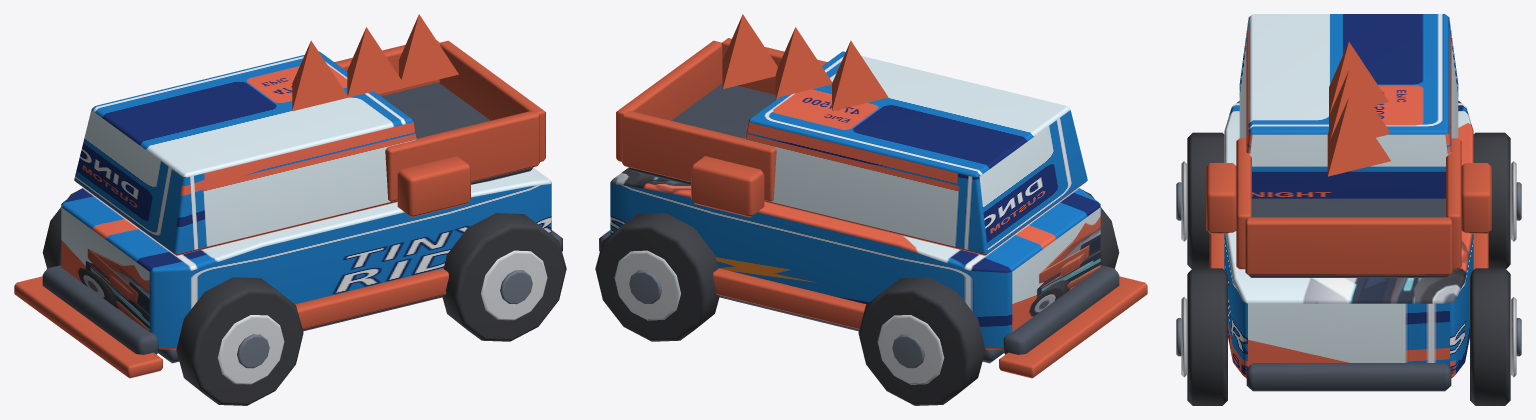
3 views of the same model, side by side, from view 1: azimuth 30°, elevation 25°; view 2: azimuth 150°, elevation 25°; view 3: azimuth 270°, elevation 25° (orthographic). The views are drawn at different scales.
Parts seen in each view (by area): view 1: CR-03_cabin, CR-03_connected_shell, Tire, Tire.002, cargo side, custom side guard, custom chin, cargo tail, custom side fin, front bumper, cargo floor, Rim (+9 smaller); view 2: CR-03_cabin, CR-03_connected_shell, Tire.001, Tire.003, cargo side.001, cargo tail, custom side guard.001, custom chin, custom side fin.001, front bumper, cargo floor, Rim.001 (+9 smaller); view 3: CR-03_cabin, CR-03_connected_shell, cargo tail, rear bumper, Tire.002, Tire.003, cargo floor, Tire, Tire.001, back plate.002, custom side fin, custom side fin.001 (+10 smaller).
Boxes of the visible parts, <box> form: CR-03_cabin: <box>74,51,416,255</box>; CR-03_connected_shell: <box>61,168,551,349</box>; Tire: <box>176,277,303,405</box>; Tire.002: <box>442,213,566,341</box>; cargo side: <box>385,110,539,201</box>; custom side guard: <box>295,268,448,329</box>; custom chin: <box>14,276,162,378</box>; cargo tail: <box>439,40,545,161</box>; custom side fin: <box>397,156,470,217</box>; front bumper: <box>42,265,158,354</box>; cargo floor: <box>381,82,533,184</box>; Rim: <box>217,315,284,384</box>; CR-03_cabin: <box>745,51,1087,255</box>; CR-03_connected_shell: <box>610,168,1100,349</box>; Tire.001: <box>858,277,985,405</box>; Tire.003: <box>595,213,719,341</box>; cargo side.001: <box>622,110,776,201</box>; cargo tail: <box>616,40,722,161</box>; custom side guard.001: <box>713,268,866,329</box>; custom chin: <box>999,276,1147,378</box>; custom side fin.001: <box>691,156,764,217</box>; front bumper: <box>1003,265,1119,354</box>; cargo floor: <box>628,83,775,184</box>; Rim.001: <box>877,315,944,384</box>; CR-03_cabin: <box>1239,14,1458,198</box>; CR-03_connected_shell: <box>1224,101,1473,378</box>; cargo tail: <box>1245,217,1452,275</box>; rear bumper: <box>1246,363,1451,391</box>; Tire.002: <box>1187,268,1227,405</box>; Tire.003: <box>1470,268,1510,405</box>; cargo floor: <box>1249,198,1448,277</box>; Tire: <box>1187,132,1224,268</box>; Tire.001: <box>1473,132,1510,268</box>; back plate.002: <box>1327,97,1390,176</box>; custom side fin: <box>1206,163,1236,233</box>; custom side fin.001: <box>1461,163,1491,233</box>.
Size of the model in its own units: 347 by 206 by 220.
